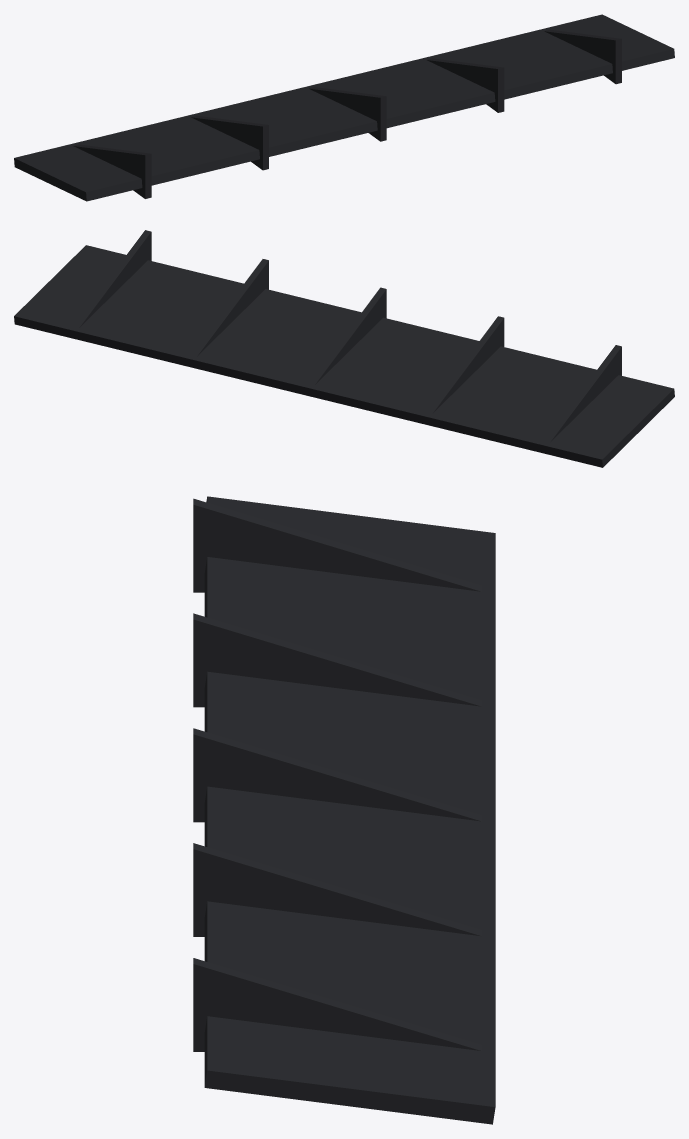
File: bumper_diffuser.glb
3 renders of one model, top to bottom at view 1: azimuth 30°, elevation 25°; view 2: azimuth 150°, elevation 25°; view 3: azimuth 270°, elevation 25°, orthographic. The views are drawn at different scales.
Visible parts, largest first — view 1: bumper_diffuser__mesh; view 2: bumper_diffuser__mesh; view 3: bumper_diffuser__mesh.
Boxes of the visible parts, x1,y1,x2,y2 form: bumper_diffuser__mesh: (14, 14, 674, 201); bumper_diffuser__mesh: (14, 230, 674, 467); bumper_diffuser__mesh: (193, 496, 495, 1124).
Size of the model in its own units: 1.4 by 0.1209 by 0.3113.
1 material, 1 textured.
